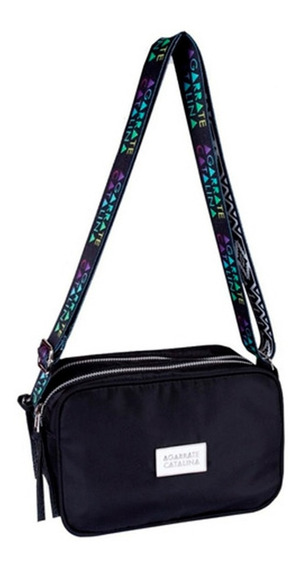cartera: (16, 33, 285, 539)
